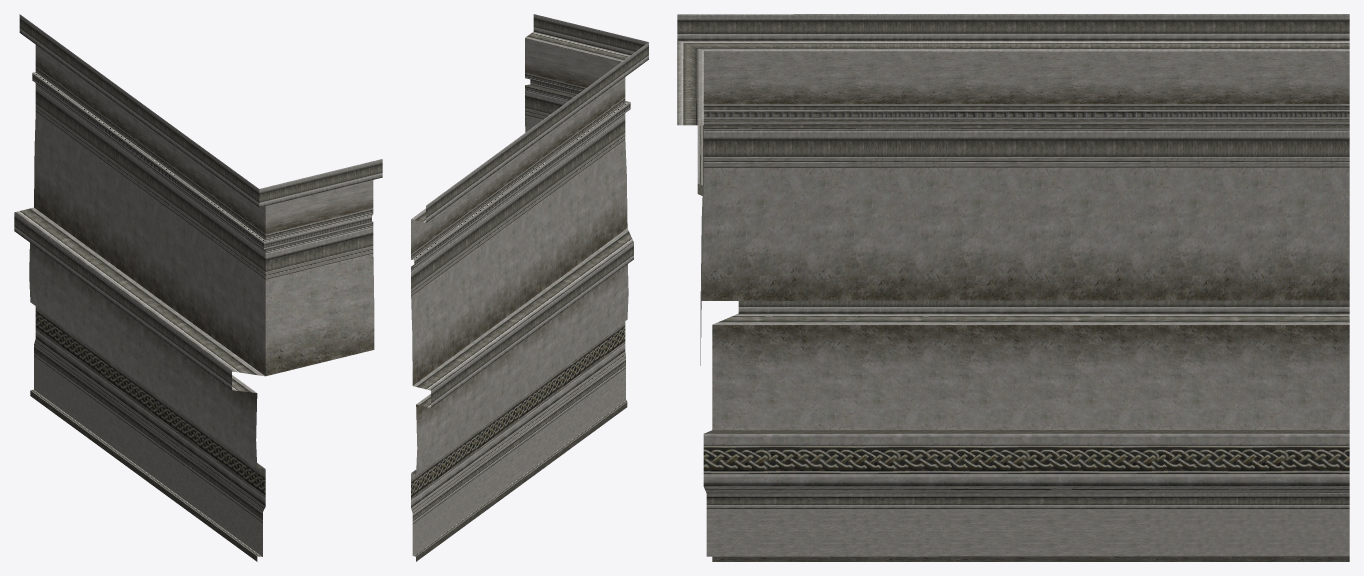
Rendered from DWARF_PALACE_GEAR_ROOM_WALL01B.fbx.
The picture shows the model from 3 angles, left to right: view 1: azimuth 30°, elevation 25°; view 2: azimuth 150°, elevation 25°; view 3: azimuth 270°, elevation 25°; orthographic projection. The views are drawn at different scales.
Parts seen in each view (by area): view 1: DWARF_PALACE_GEAR_ROOM_WALL01B; view 2: DWARF_PALACE_GEAR_ROOM_WALL01B; view 3: DWARF_PALACE_GEAR_ROOM_WALL01B.
Part boxes in pixels (x1,y1,x2,y2): DWARF_PALACE_GEAR_ROOM_WALL01B: [14, 14, 382, 561]; DWARF_PALACE_GEAR_ROOM_WALL01B: [411, 14, 648, 561]; DWARF_PALACE_GEAR_ROOM_WALL01B: [677, 14, 1349, 561].
Size of the model in its own units: 72127 by 205002 by 231031.
7 materials, 7 textured.
